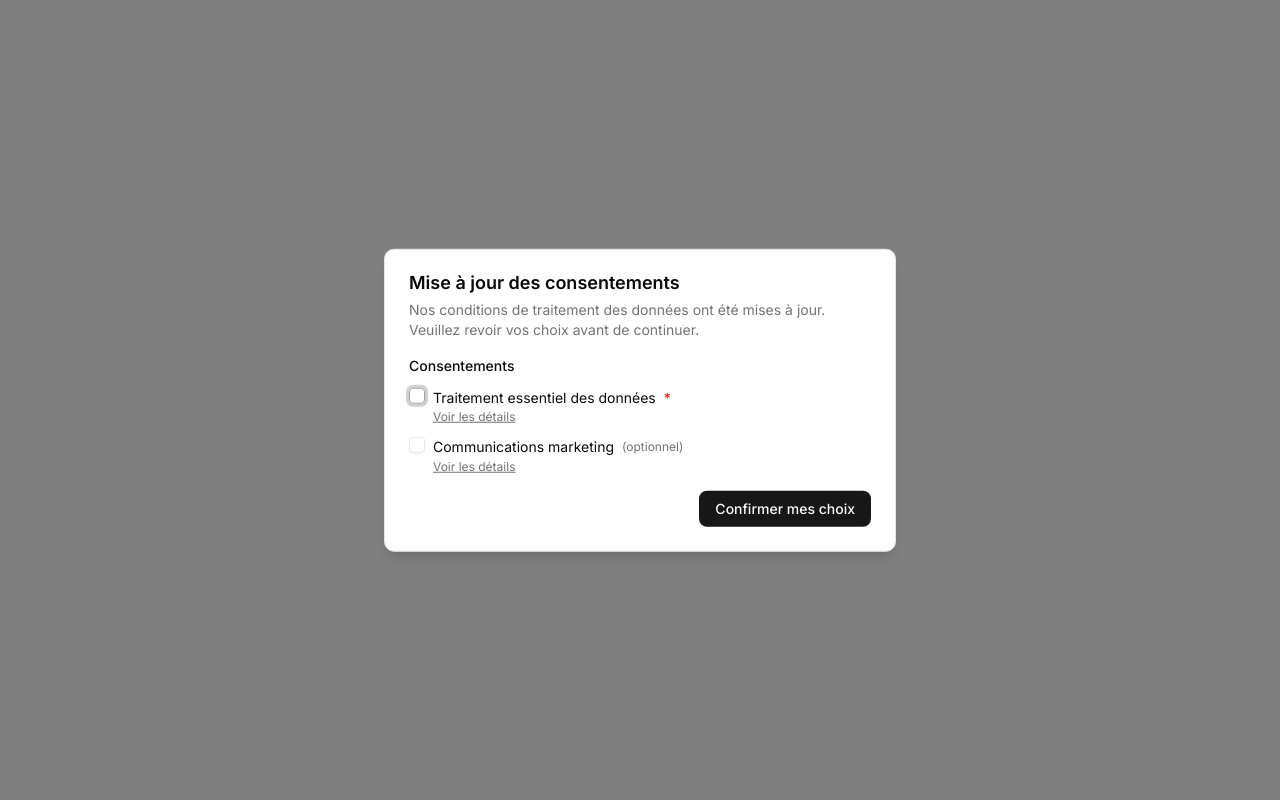
Scenario: ConsentReviewDialog › should show error when mandatory consent not checked on submit
Click the button "Confirmer mes choix" at (785, 508), box [699,490,871,526]
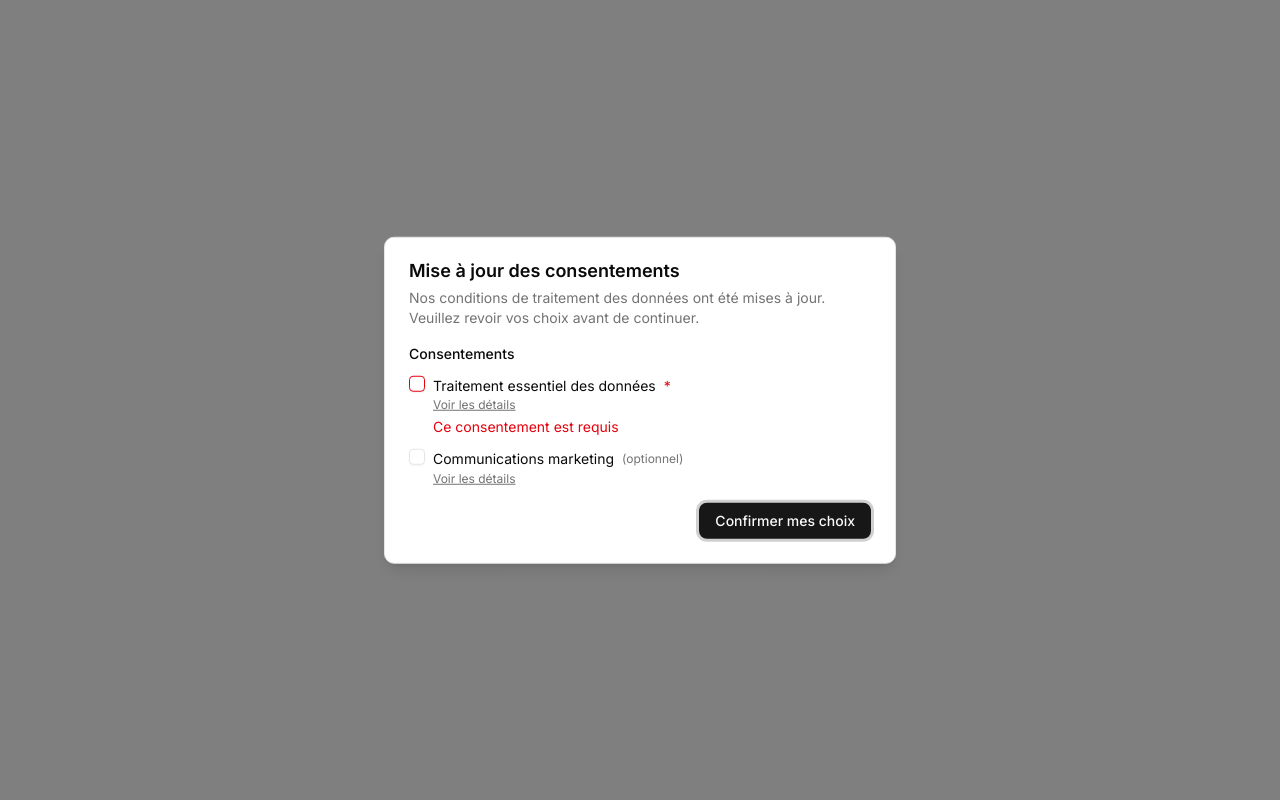
Expected: the text "Ce consentement est requis" is shown, [433,418,618,435]
